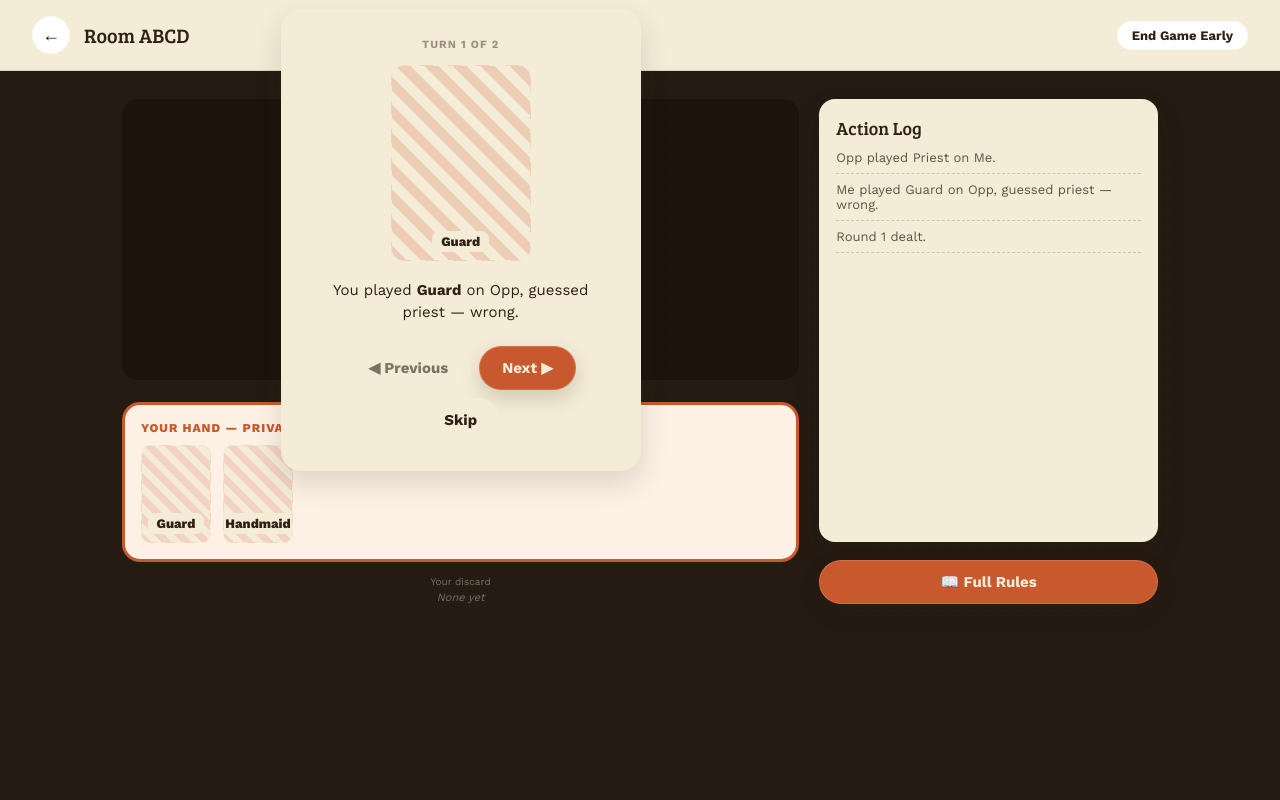
ActiveTableContainer › turn review overlay › Next/Previous step through pending turns, and Skip closes the overlay
Expected: the text "TURN 1 OF 2" is shown, x1=422 y1=38 x2=499 y2=50
Click the button "Next ▶".
click(528, 368)  # box x1=479 y1=346 x2=576 y2=390
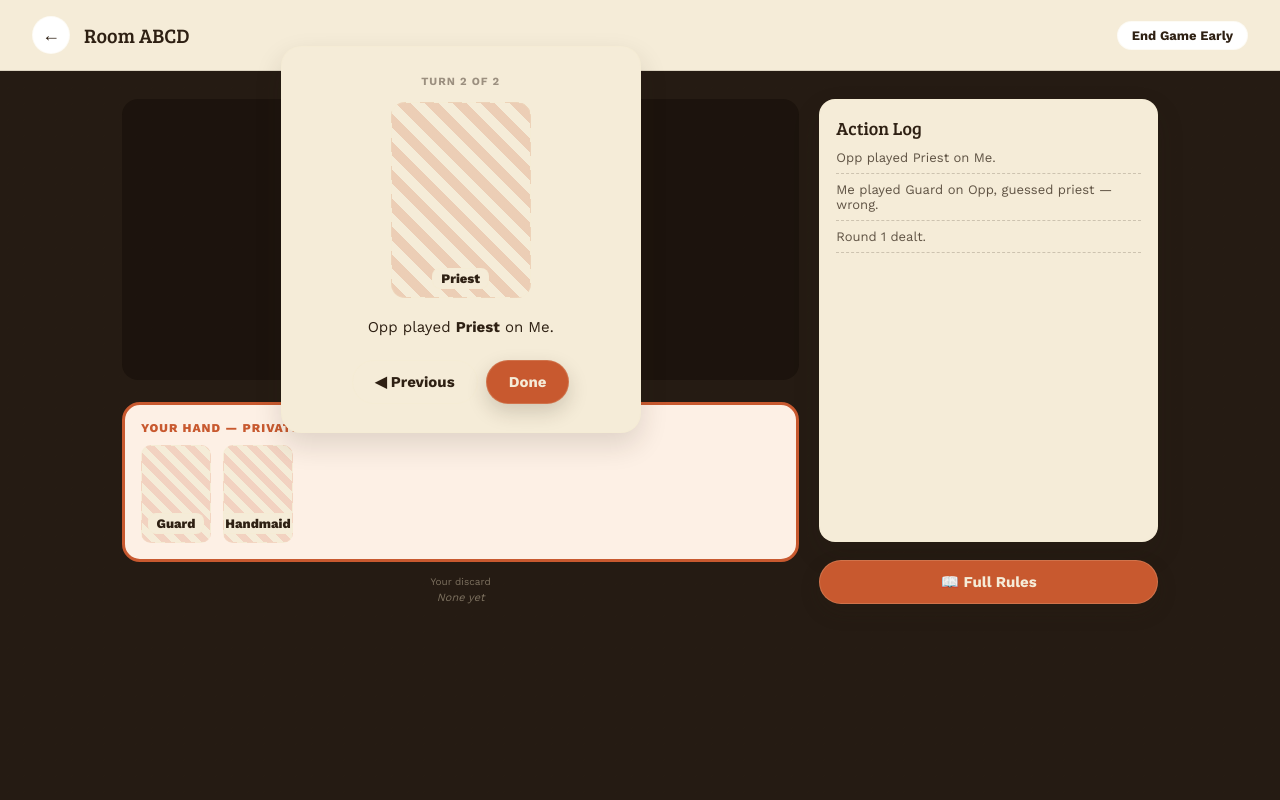
Now the text "TURN 2 OF 2" is shown, box x1=421 y1=75 x2=500 y2=88
Now the button "Done" is shown, box x1=486 y1=360 x2=569 y2=404
Click the button "◀ Previous".
click(415, 382)  # box x1=352 y1=360 x2=478 y2=404
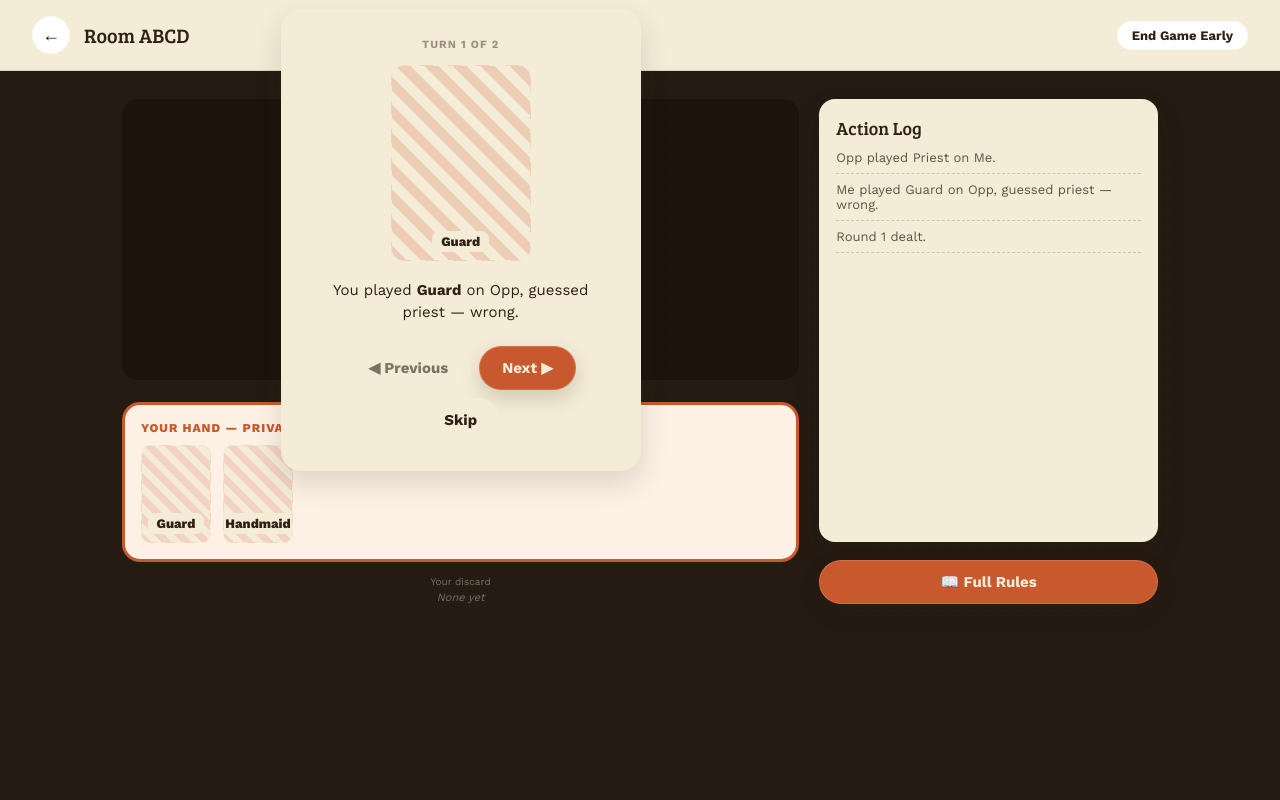
Now the text "TURN 1 OF 2" is shown, box x1=422 y1=38 x2=499 y2=50
Click the button "Skip".
click(461, 420)  # box x1=421 y1=398 x2=500 y2=442
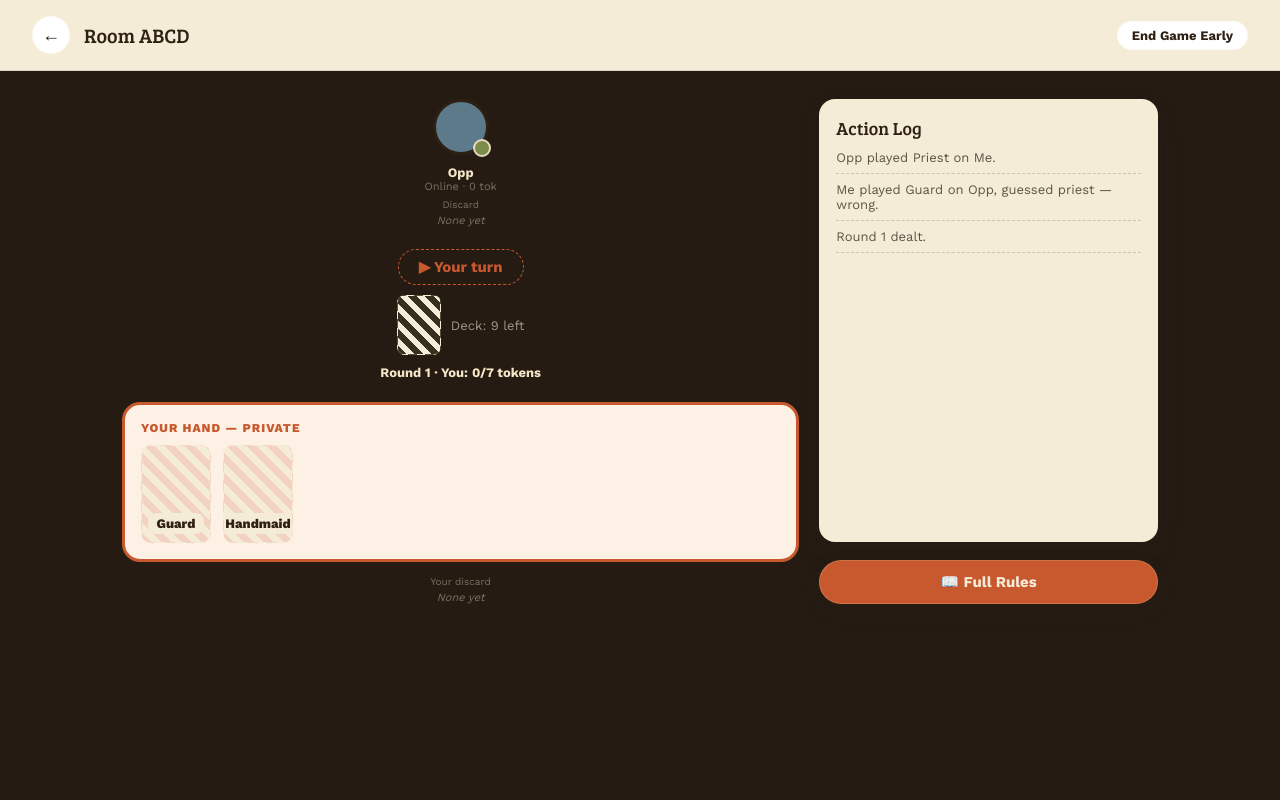
Now the text "TURN 1 OF 2" is gone
